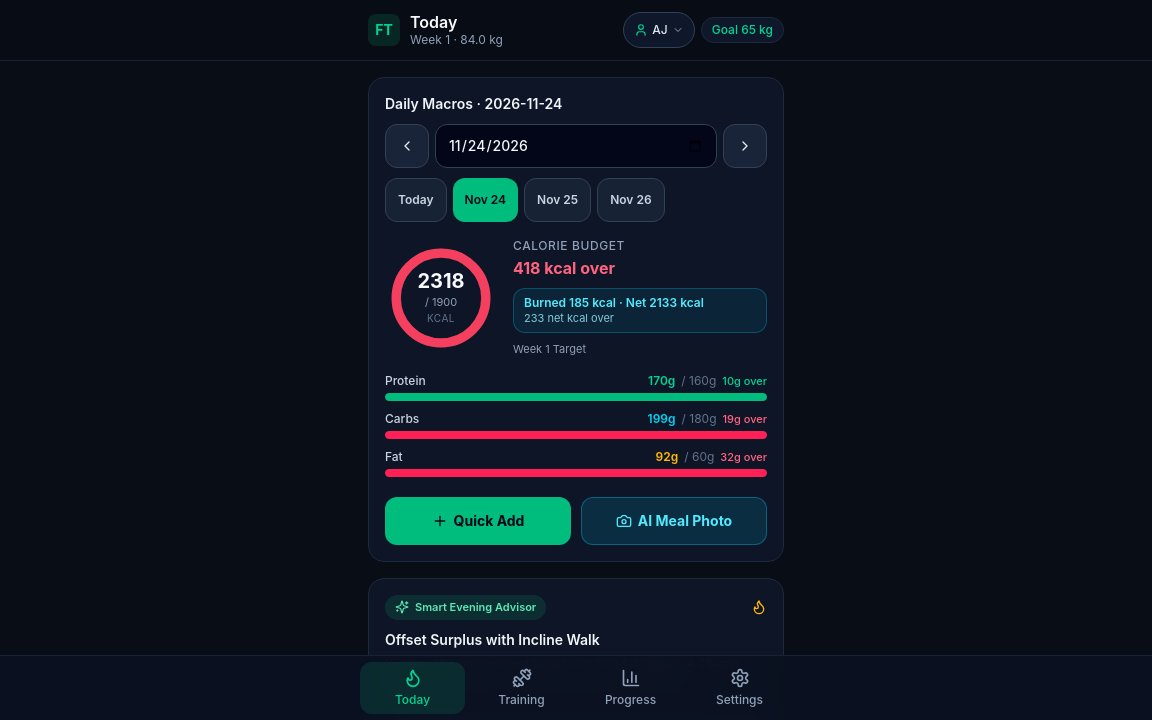
Test: app shell & bottom navigation › renders Today with seeded Nov 24 macros and switches across all 4 tabs
This screenshot has width=1152, height=720.
Check: the heading "Daily Macros · 2026-11-24" is shown, box x1=385 y1=94 x2=562 y2=114
Check: the text "2318" is shown, box x1=417 y1=269 x2=465 y2=294
Step 1. Click the button "Training" → (522, 688), box x1=469 y1=662 x2=574 y2=714
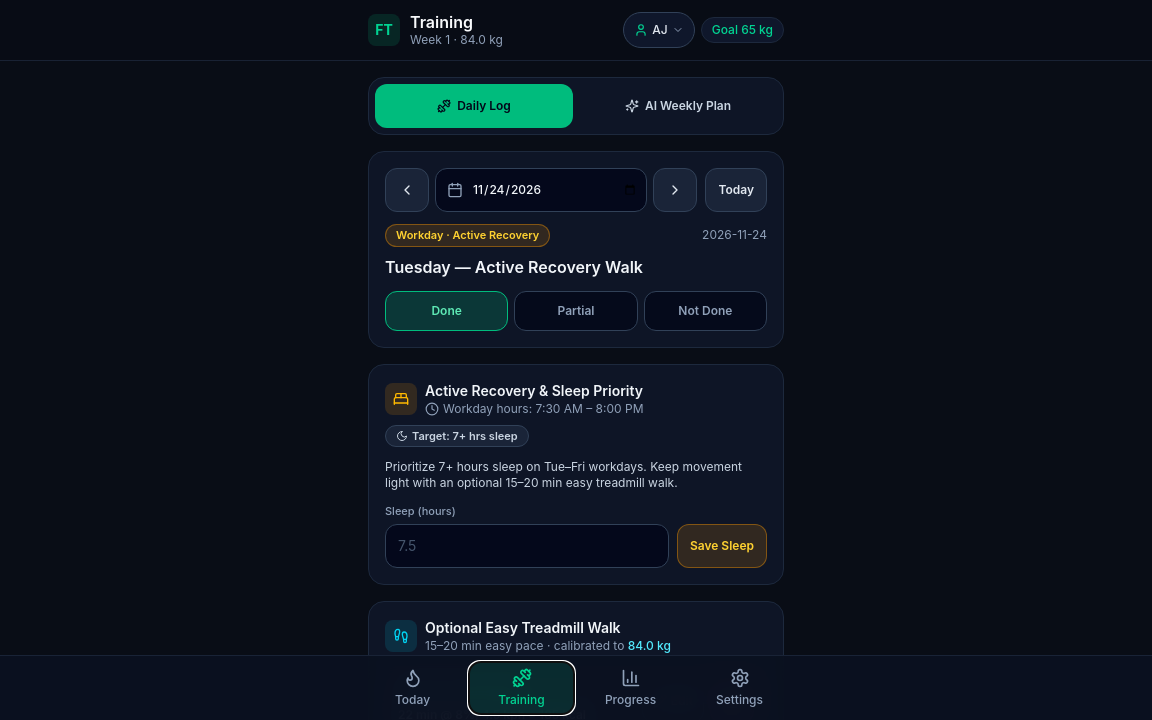
Check: the heading "Tuesday — Active Recovery Walk" is shown, box x1=385 y1=256 x2=643 y2=276
Step 2. Click the button "Progress" → (630, 688), box x1=578 y1=662 x2=683 y2=714
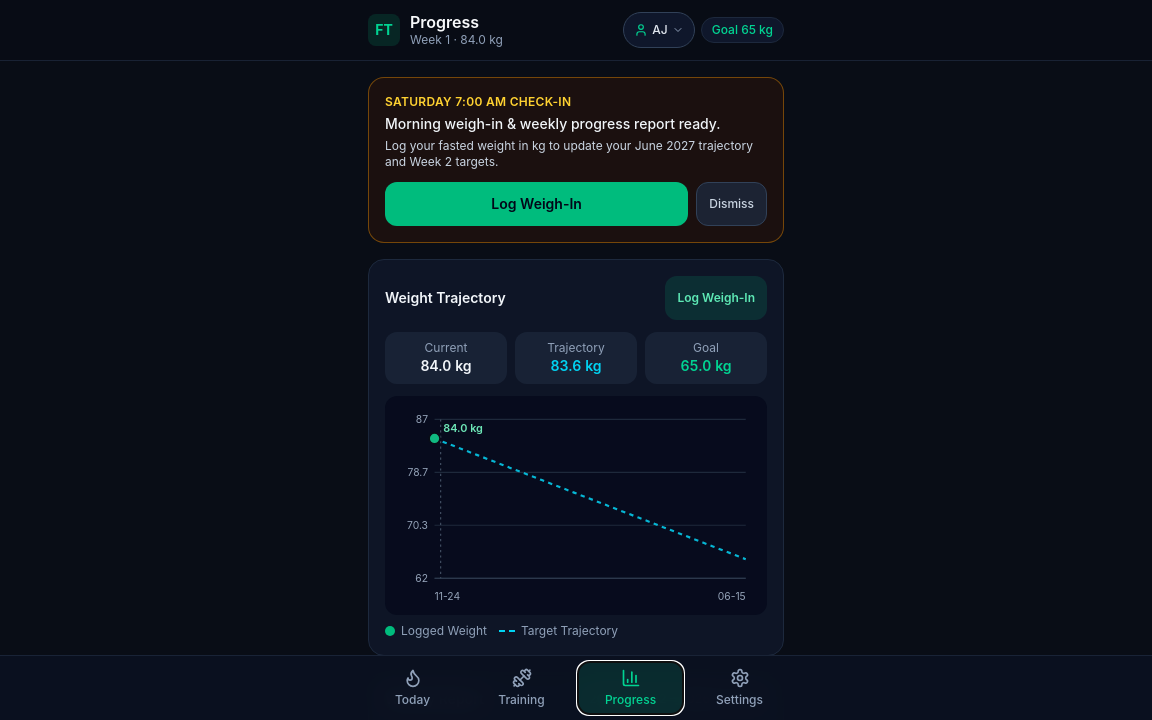
Check: the heading "Weight Trajectory" is shown, box x1=385 y1=288 x2=506 y2=308
Check: the text "65.0 kg" is shown, box x1=680 y1=357 x2=732 y2=374
Step 3. Click the button "Settings" → (740, 688), box x1=687 y1=662 x2=792 y2=714
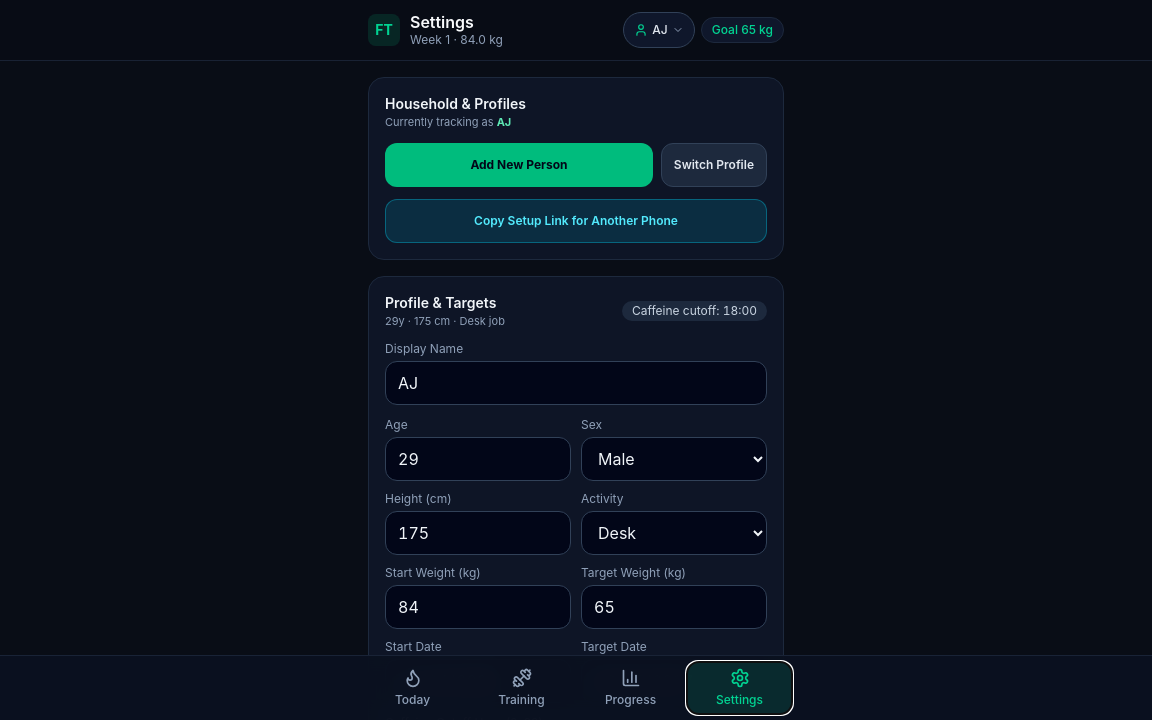
Check: the heading "Profile & Targets" is shown, box x1=385 y1=292 x2=505 y2=312
Check: the text "18:00" is shown, box x1=723 y1=303 x2=757 y2=318
